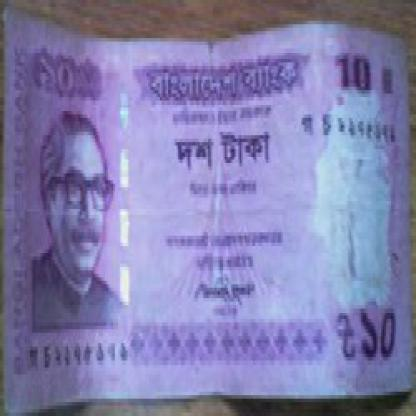Ten Taka: (359, 284, 406, 374), (28, 42, 88, 111), (335, 45, 376, 104)
